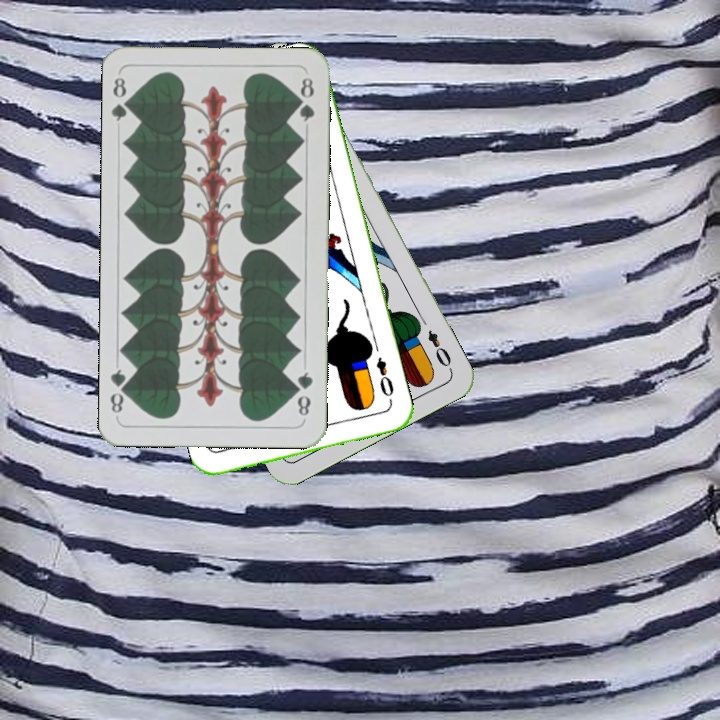EO: (423, 325, 454, 370), (372, 353, 397, 400)
G8: (109, 74, 136, 124), (292, 368, 316, 419)
